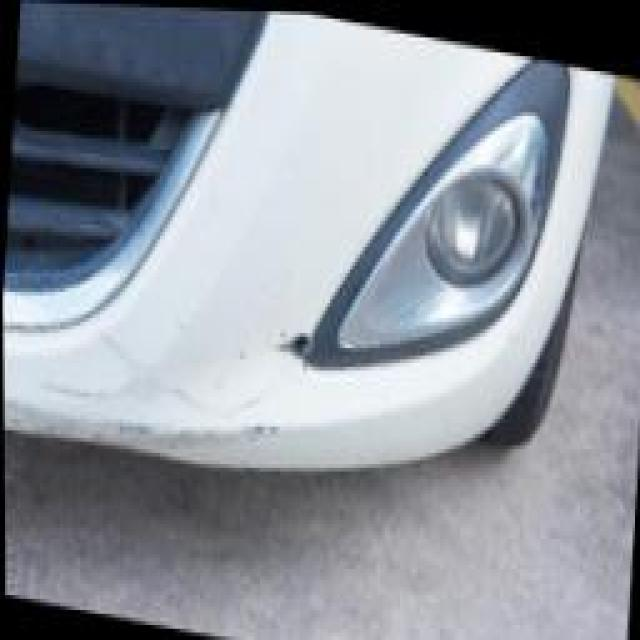Bumper: (2, 251, 329, 490)
